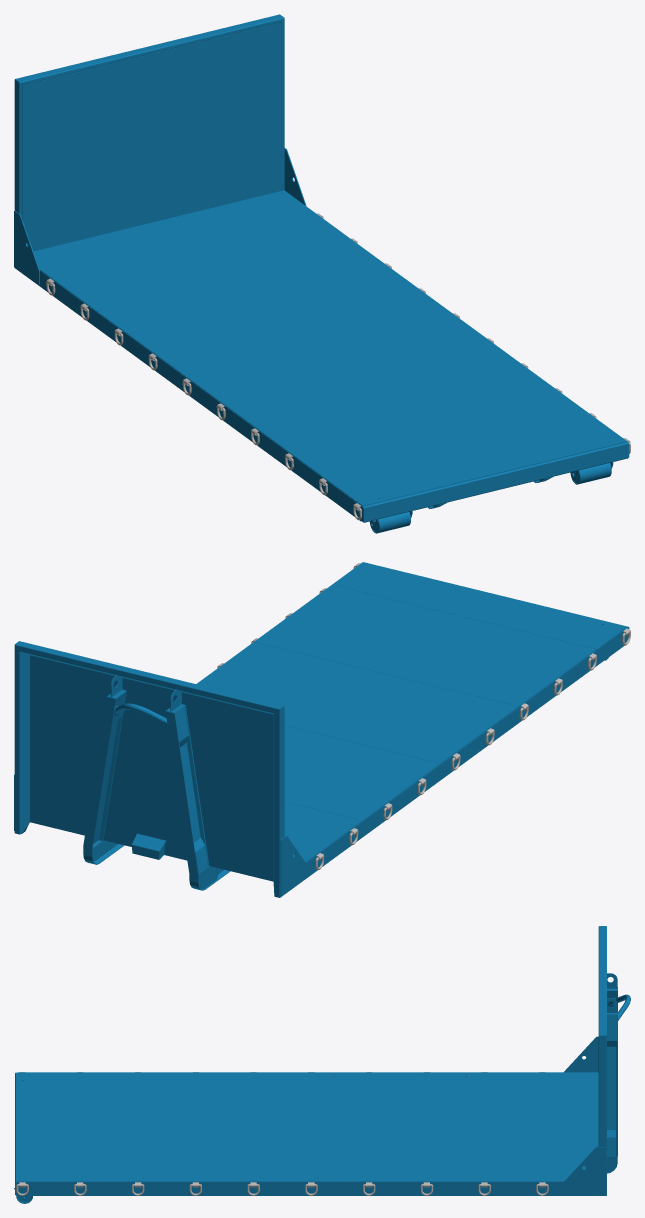
3 views of the same model, one above another, from view 1: azimuth 30°, elevation 25°; view 2: azimuth 150°, elevation 25°; view 3: azimuth 270°, elevation 25° (orthographic). The views are drawn at different scales.
Parts seen in each view (by area): view 1: Solid1 (×10), Solid2; view 2: Solid1 (×15), Solid2 (×2); view 3: Solid1 (×10), Solid2.
Boxes of the visible parts, x1,y1,x2,y2 form: Solid1 (×10): (14,14,629,522); Solid2: (19,270,363,521); Solid1 (×15): (14,562,627,897); Solid2 (×2): (165,628,628,893); Solid1 (×10): (17,926,617,1195); Solid2: (15,1182,598,1195).
Size of the model in its own units: 2.52 by 1.82 by 5.81.
